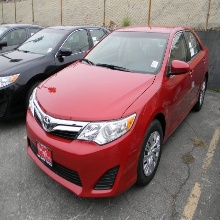no damage: (24, 26, 208, 201), (1, 25, 109, 124)
